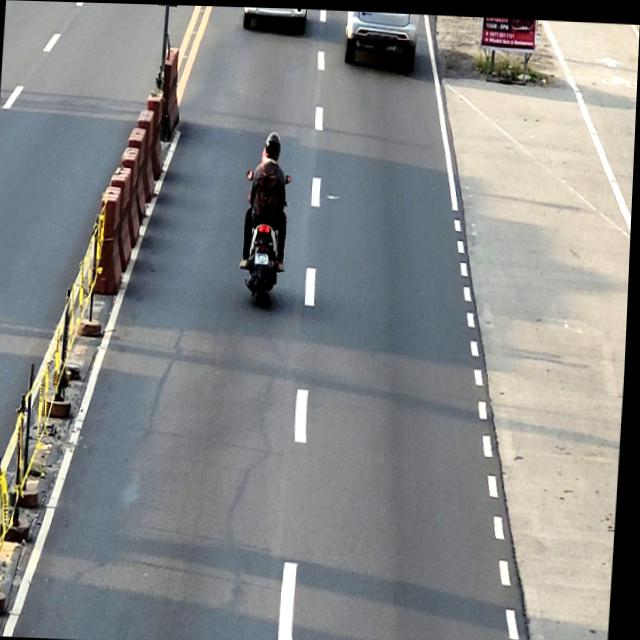Car: (342, 9, 417, 70)
License-Plate: (256, 250, 270, 263)
Motorcycle: (241, 166, 294, 307)
